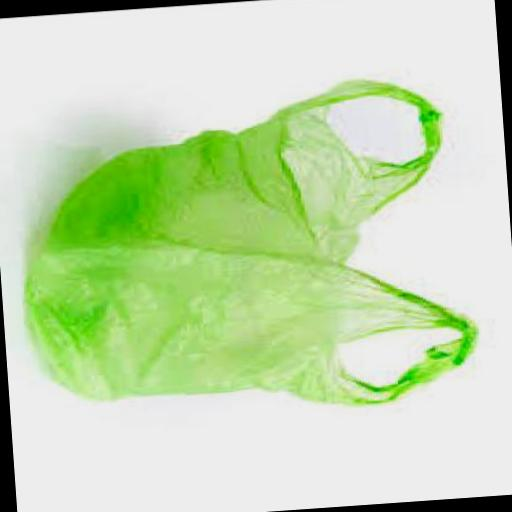plastic: (14, 76, 484, 430)
